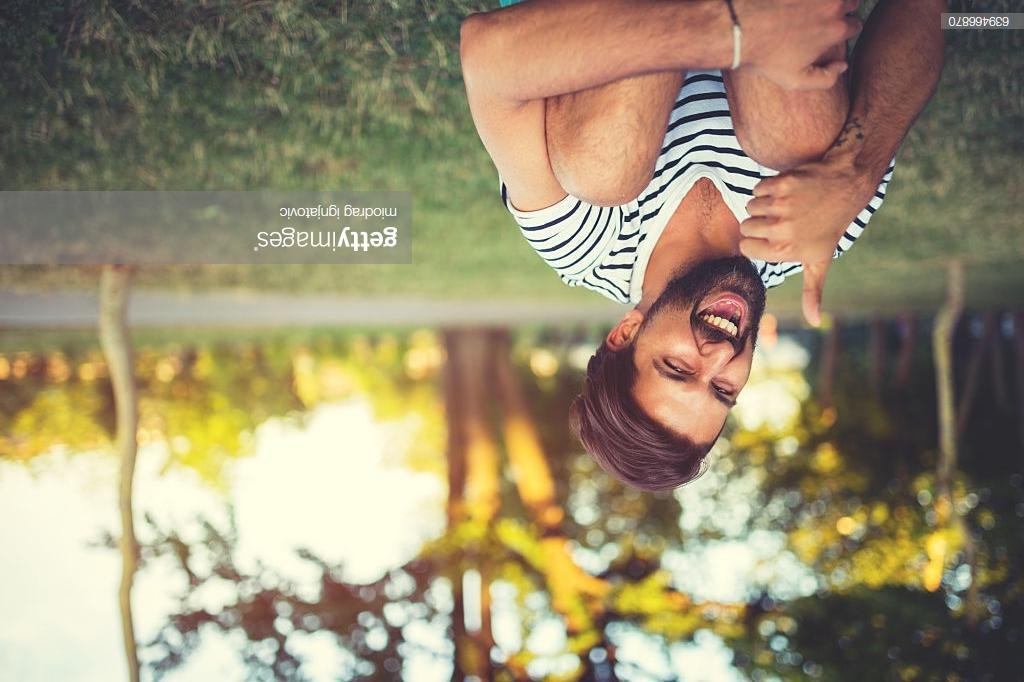thumbsdown: (739, 171, 824, 327)
